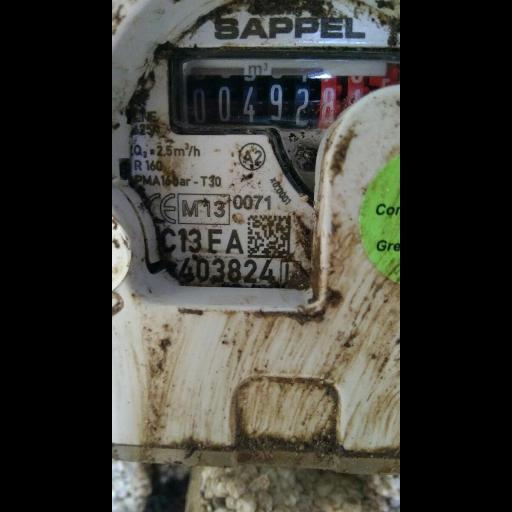0: (187, 75, 211, 125), (211, 77, 235, 126)
1: (346, 76, 366, 111)
2: (292, 76, 317, 126)
4: (239, 76, 264, 126)
8: (319, 76, 339, 127)
9: (266, 77, 290, 126)
border_water_meter_number: (169, 48, 400, 136)
